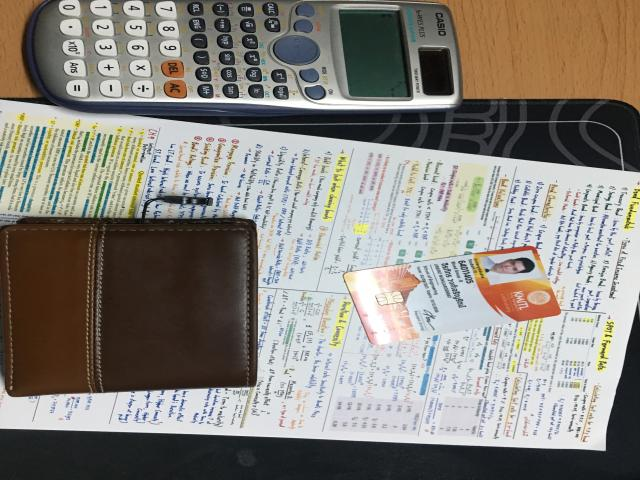Wallet: (0, 218, 258, 397)
paper: (0, 101, 638, 450)
